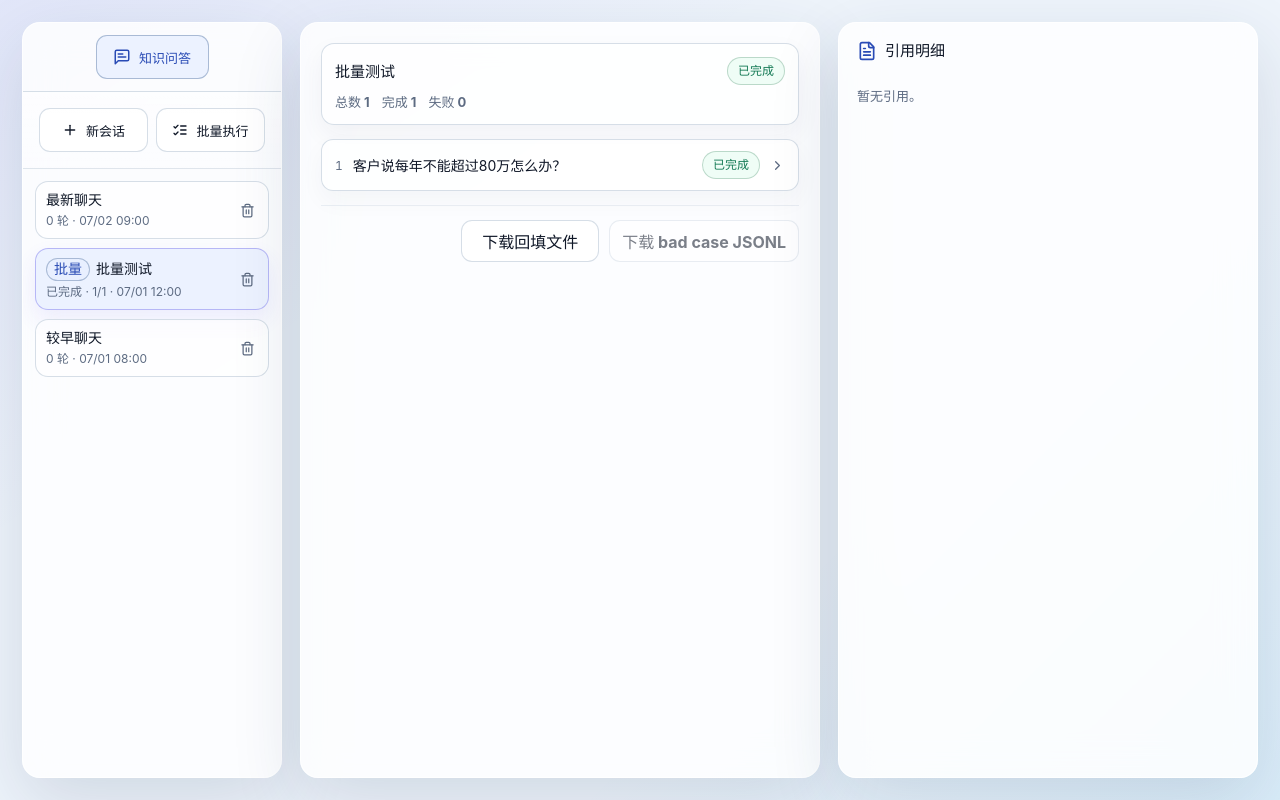
Test: 删除运行中的批量会话返回 409 时保持选中并展示后端 detail
Expected: the button "1 客户说每年不能超过80万怎么办？ 已完成" is shown, [321,139,799,191]
Click the button named "删除批量会话 批量测试".
click(247, 279)  # box [226,258,268,300]
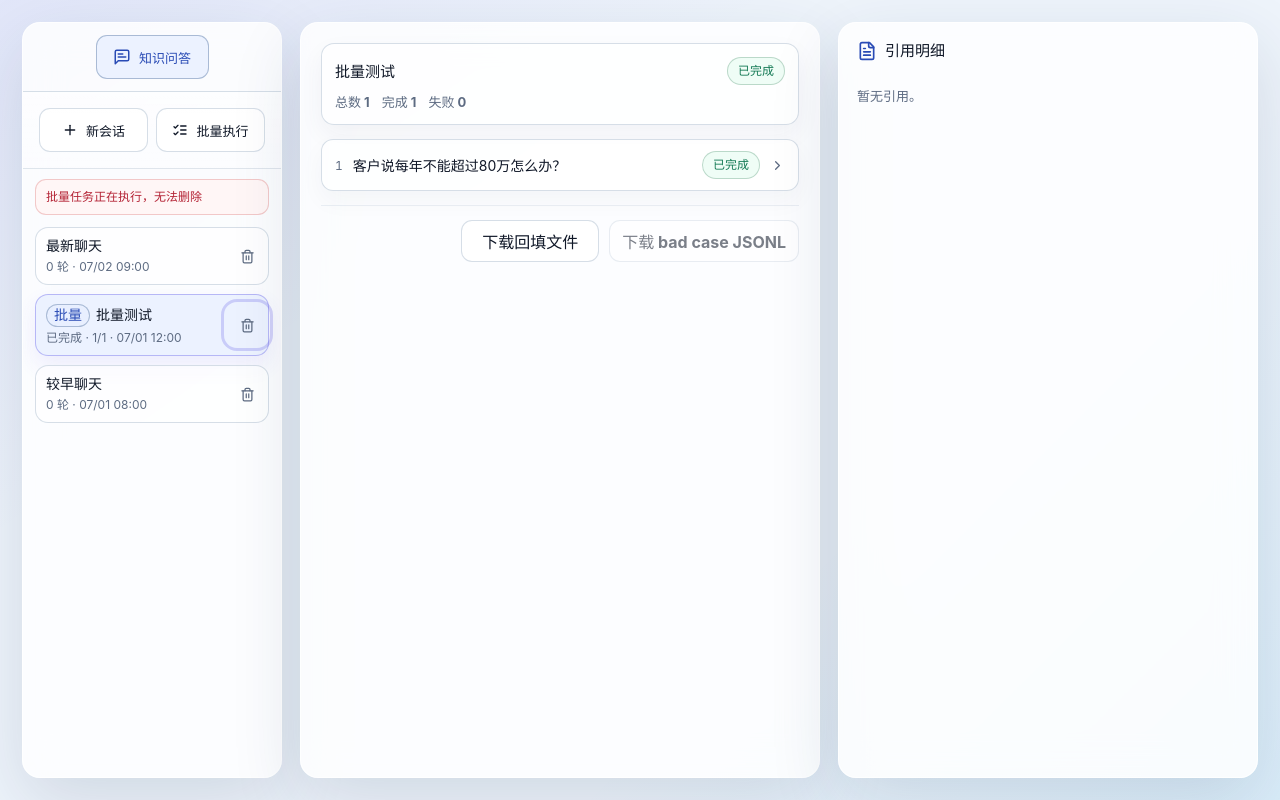
Expected: the text "批量测试" is shown, [96,306,152,323]
Result: the text "批量任务正在执行，无法删除" is shown at [35,179,269,215]
